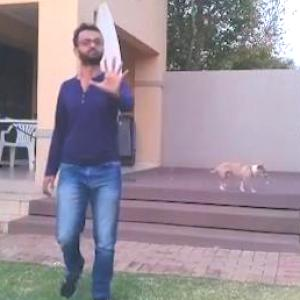follow_hand: (89, 51, 132, 99)
